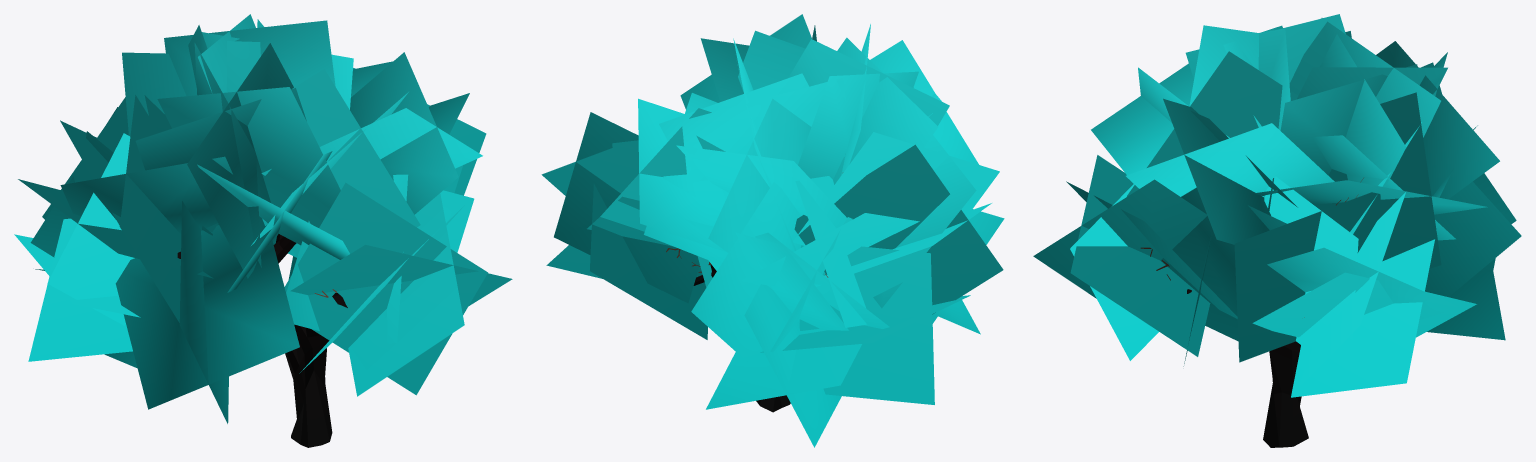
Rendered from SM_Env_Tree_Maple_02.fbx.
3 views of the same model, side by side, from view 1: azimuth 30°, elevation 25°; view 2: azimuth 150°, elevation 25°; view 3: azimuth 270°, elevation 25° (orthographic). The views are drawn at different scales.
Visible parts, largest first — view 1: SM_Env_Tree_Maple_02_LOD0; view 2: SM_Env_Tree_Maple_02_LOD0; view 3: SM_Env_Tree_Maple_02_LOD0.
Boxes of the visible parts, x1,y1,x2,y2 form: SM_Env_Tree_Maple_02_LOD0: (14,14,512,447); SM_Env_Tree_Maple_02_LOD0: (541,14,1004,447); SM_Env_Tree_Maple_02_LOD0: (1033,14,1521,447).
Size of what is drawn, in the model's own units: 346 by 290 by 320.
